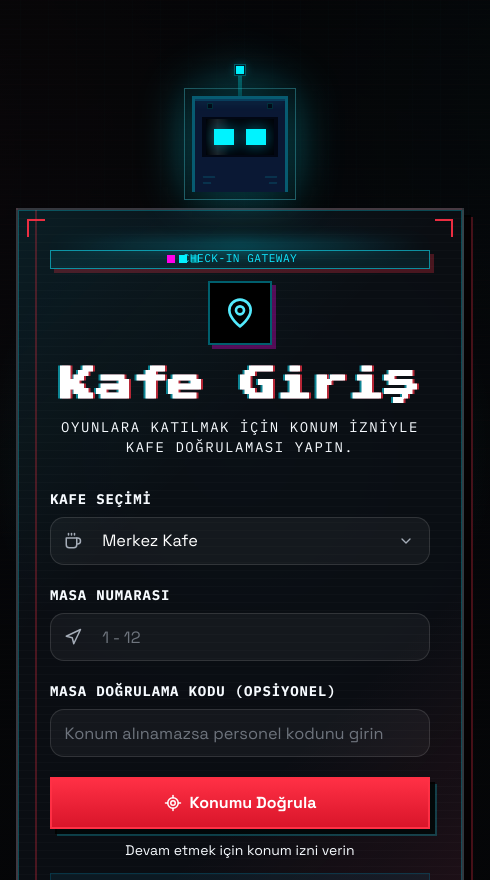
Test: CafeSelection › shows network-friendly error on fetch failure during check-in
The image size is (490, 880).
Type "2" into the number field at (240, 637), box [50, 613, 430, 661]
(page scrolled)
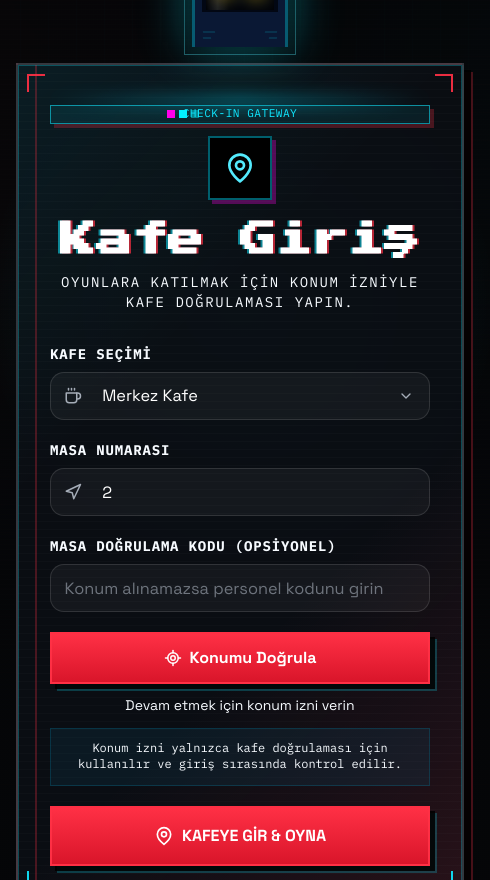
Click the button "KAFEYE GİR & OYNA" at (240, 836), box [50, 806, 430, 866]
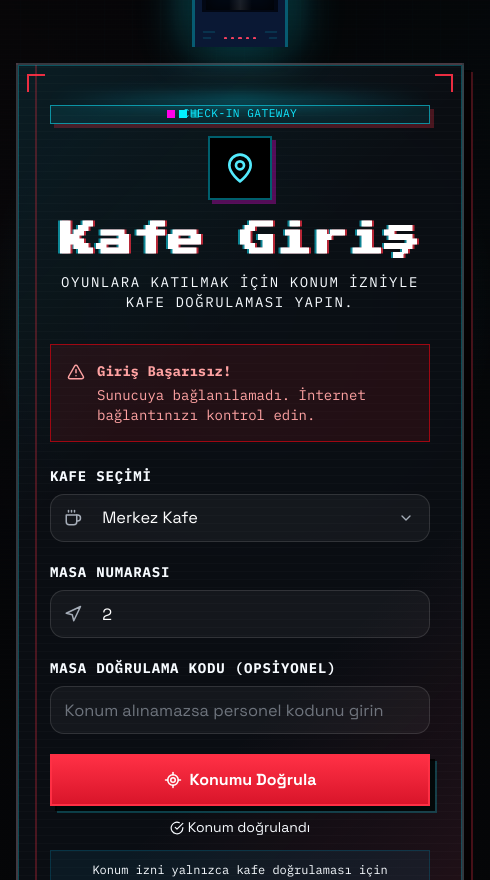
Check: the text "Sunucuya bağlanılamadı. İnternet bağlantınızı kontrol edin." is shown, box [97, 385, 413, 425]
